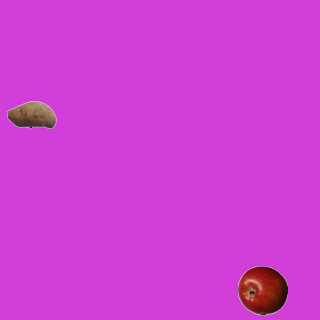Apple Braeburn: (237, 265, 287, 315)
Potato Sweet: (6, 89, 56, 139)
